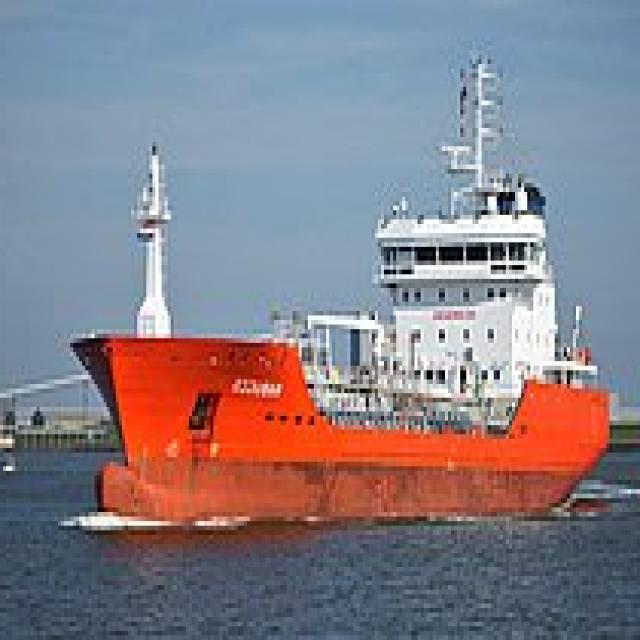Tanker: (67, 50, 616, 526)
